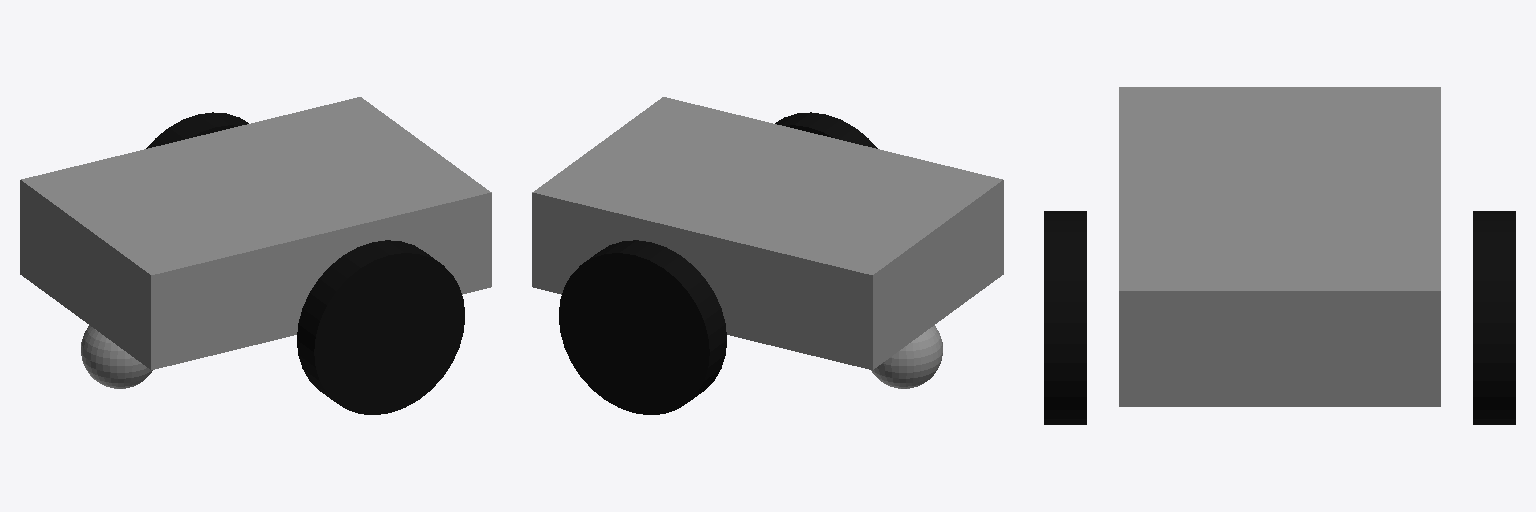
URDF robot description (diffbot):
<?xml version="1.0"?>
<!-- 差速底盘测试夹具 (2026-10-15, 底盘域 A5) —— 框架自测资产, 不注册机型。
     用途: BaseVelocityController + DiffKinematics 的 gz 全链 E2E (test_base_controller.sh);
     验收判据 = 接第二形态底盘框架包零改动 (差速故意选与 r1_pro 三舵轮最不相关)。
     @CONTROLLERS_YAML@ 由测试脚本渲染成绝对路径后 spawn。 -->
<robot name="diffbot">
    <link name="base_link">
        <inertial>
            <origin xyz="0 0 0" rpy="0 0 0"/>
            <mass value="12.0"/>
            <inertia ixx="0.1044" ixy="0" ixz="0" iyy="0.2169" iyz="0" izz="0.2925"/>
        </inertial>
        <visual>
            <origin xyz="0 0 0" rpy="0 0 0"/>
            <geometry><box size="0.45 0.30 0.12"/></geometry>
            <material name="grey"><color rgba="0.6 0.6 0.6 1"/></material>
        </visual>
        <collision>
            <origin xyz="0 0 0" rpy="0 0 0"/>
            <geometry><box size="0.45 0.30 0.12"/></geometry>
        </collision>
    </link>

    <link name="left_wheel_link">
        <inertial>
            <origin xyz="0 0 0" rpy="0 0 0"/>
            <mass value="1.0"/>
            <inertia ixx="0.00263" ixy="0" ixz="0" iyy="0.00263" iyz="0" izz="0.005"/>
        </inertial>
        <visual>
            <origin xyz="0 0 0" rpy="1.5708 0 0"/>
            <geometry><cylinder radius="0.1" length="0.04"/></geometry>
            <material name="black"><color rgba="0.1 0.1 0.1 1"/></material>
        </visual>
        <collision>
            <origin xyz="0 0 0" rpy="1.5708 0 0"/>
            <geometry><cylinder radius="0.1" length="0.04"/></geometry>
        </collision>
    </link>
    <joint name="left_wheel_joint" type="continuous">
        <parent link="base_link"/>
        <child link="left_wheel_link"/>
        <origin xyz="0.05 0.2 -0.05" rpy="0 0 0"/>
        <axis xyz="0 1 0"/>
        <limit effort="10" velocity="50"/>
    </joint>

    <link name="right_wheel_link">
        <inertial>
            <origin xyz="0 0 0" rpy="0 0 0"/>
            <mass value="1.0"/>
            <inertia ixx="0.00263" ixy="0" ixz="0" iyy="0.00263" iyz="0" izz="0.005"/>
        </inertial>
        <visual>
            <origin xyz="0 0 0" rpy="1.5708 0 0"/>
            <geometry><cylinder radius="0.1" length="0.04"/></geometry>
            <material name="black"><color rgba="0.1 0.1 0.1 1"/></material>
        </visual>
        <collision>
            <origin xyz="0 0 0" rpy="1.5708 0 0"/>
            <geometry><cylinder radius="0.1" length="0.04"/></geometry>
        </collision>
    </link>
    <joint name="right_wheel_joint" type="continuous">
        <parent link="base_link"/>
        <child link="right_wheel_link"/>
        <origin xyz="0.05 -0.2 -0.05" rpy="0 0 0"/>
        <axis xyz="0 1 0"/>
        <limit effort="10" velocity="50"/>
    </joint>

    <!-- 随动球脚轮 (fixed, 零摩擦): 三点支撑 + 差速物理成立 -->
    <link name="caster_link">
        <inertial>
            <origin xyz="0 0 0" rpy="0 0 0"/>
            <mass value="0.5"/>
            <inertia ixx="0.00081" ixy="0" ixz="0" iyy="0.00081" iyz="0" izz="0.00081"/>
        </inertial>
        <visual>
            <geometry><sphere radius="0.045"/></geometry>
            <material name="grey"><color rgba="0.6 0.6 0.6 1"/></material>
        </visual>
        <collision>
            <geometry><sphere radius="0.045"/></geometry>
        </collision>
    </link>
    <joint name="caster_joint" type="fixed">
        <parent link="base_link"/>
        <child link="caster_link"/>
        <origin xyz="-0.18 0 -0.105" rpy="0 0 0"/>
    </joint>

    <ros2_control name="diffbot" type="system">
        <hardware>
            <plugin>gz_ros2_control/GazeboSimSystem</plugin>
        </hardware>
        <joint name="left_wheel_joint">
            <command_interface name="velocity"/>
            <state_interface name="position"/>
            <state_interface name="velocity"/>
        </joint>
        <joint name="right_wheel_joint">
            <command_interface name="velocity"/>
            <state_interface name="position"/>
            <state_interface name="velocity"/>
        </joint>
    </ros2_control>

    <gazebo>
        <plugin filename="gz_ros2_control-system" name="gz_ros2_control::GazeboSimROS2ControlPlugin">
            <robot_param>robot_description</robot_param>
            <robot_param_node>robot_state_publisher</robot_param_node>
            <parameters>@CONTROLLERS_YAML@</parameters>
        </plugin>
    </gazebo>
    <gazebo reference="left_wheel_link"><mu1>30</mu1><mu2>0.5</mu2></gazebo>
    <gazebo reference="right_wheel_link"><mu1>30</mu1><mu2>0.5</mu2></gazebo>
    <gazebo reference="caster_link"><mu1>0.0</mu1><mu2>0.0</mu2></gazebo>
</robot>

--- Render facts (derived) ---
3 views of the same robot in one strip: view 1: azimuth 30°, elevation 25°; view 2: azimuth 150°, elevation 25°; view 3: azimuth 270°, elevation 25° (orthographic).
Model diffbot with 4 links and 3 joints (2 continuous, 1 fixed), rooted at base_link, posed every joint at zero.
Links seen in each view (by area): view 1: base_link, right_wheel_link, caster_link, left_wheel_link; view 2: base_link, left_wheel_link, caster_link, right_wheel_link; view 3: base_link, left_wheel_link, right_wheel_link.
Boxes of the visible links, x1,y1,x2,y2 form: base_link: [20, 97, 491, 369]; right_wheel_link: [297, 240, 464, 414]; caster_link: [81, 325, 152, 388]; left_wheel_link: [146, 112, 248, 148]; base_link: [532, 97, 1003, 369]; left_wheel_link: [559, 240, 726, 414]; caster_link: [871, 325, 942, 388]; right_wheel_link: [775, 112, 877, 148]; base_link: [1119, 87, 1440, 406]; left_wheel_link: [1473, 211, 1515, 424]; right_wheel_link: [1044, 211, 1086, 424].
Size in the robot's own frame: 0.45 by 0.44 by 0.21 metres.
Geometry: primitives only (box / cylinder / sphere), no mesh files.
